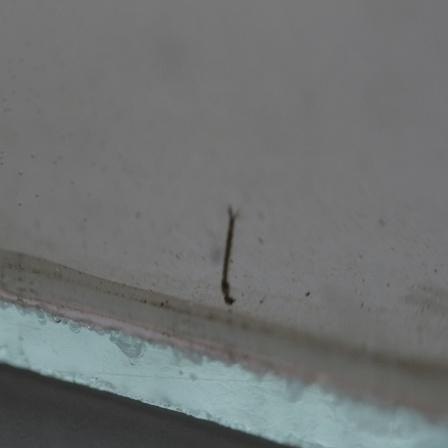Jentik-Nyamuk: (215, 200, 243, 312)
